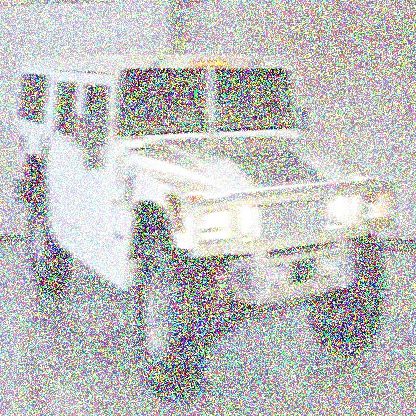Vehicle: (14, 50, 396, 403)
